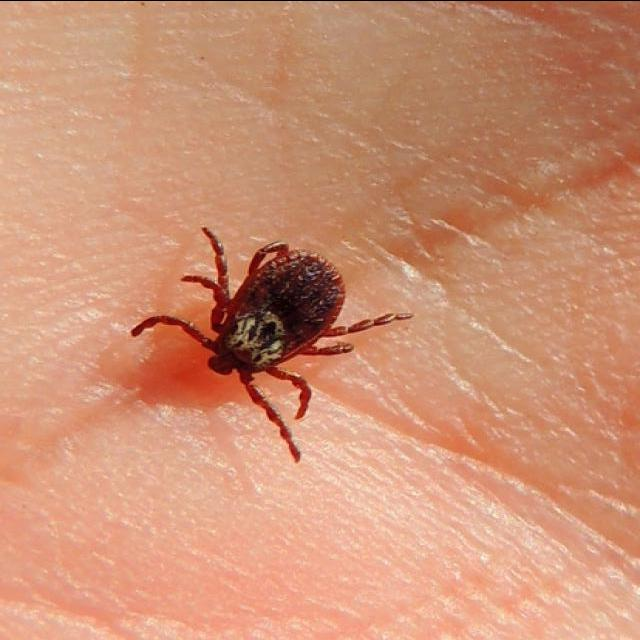Dermacentor Reticulatus-F: (131, 227, 413, 462)
